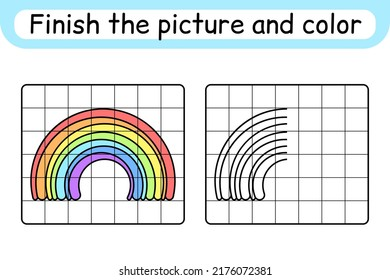rainbow: (28, 109, 178, 202)
